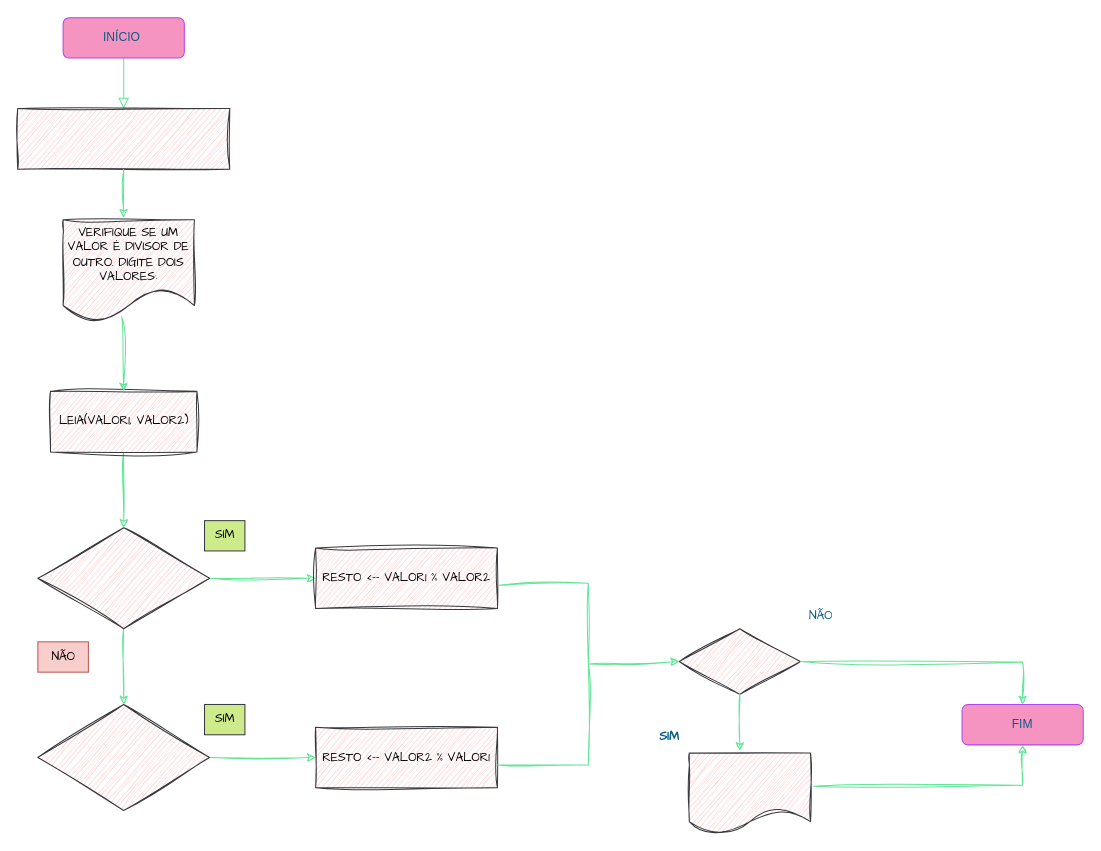
Some shapes in this 1101 by 851 pixel diagram are drawn without their labels. Here are the shapes that lost their labels. From the top down, the centre of each, then its label:
At (123,138): "INTEIRO VALOR1, VALOR2, RESTO".
At (123,578): "VALOR1 > VALOR2".
At (739,661): "RESTO == 0".
At (123,757): "VALOR2 > VALOR1".
At (749,793): "É DIVISOR!".
